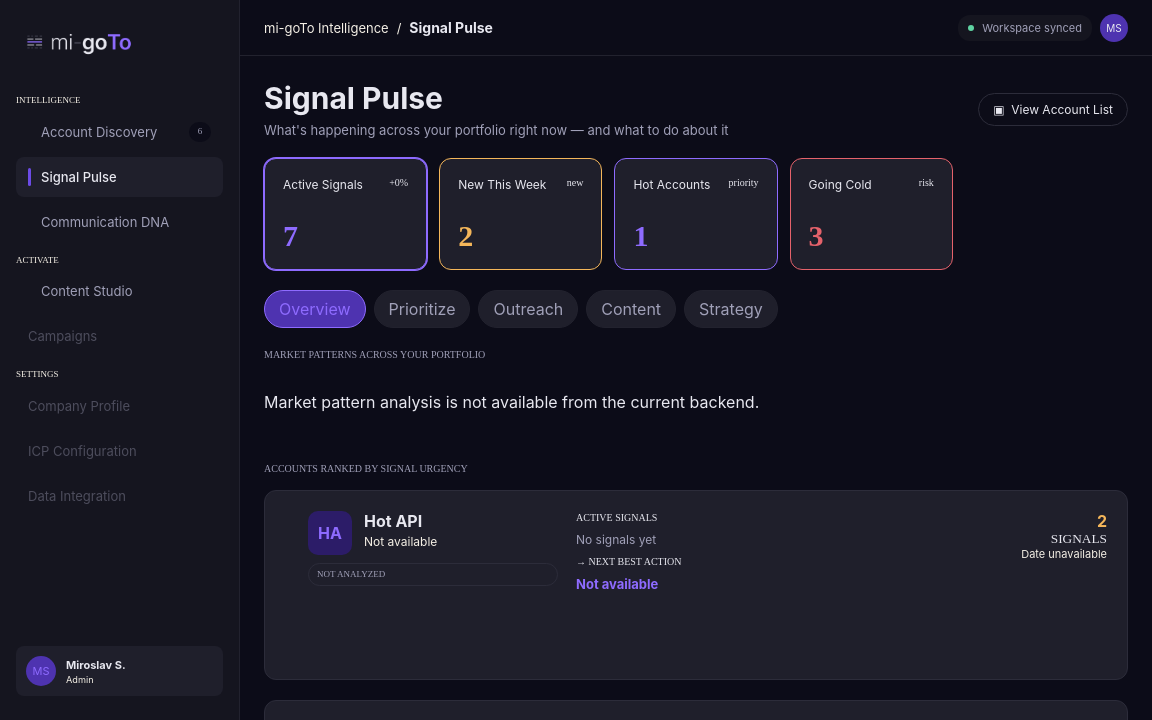
Scenario: Phase 6D API-mode UI regressions › uses backend Signal Pulse metrics and urgency filters without fixture patterns
The width and height of the screenshot is (1152, 720).
Check: the text "Market Patterns" is not shown
Click the button "Going Cold risk 3". click: (871, 214)
box: [790, 158, 953, 270]
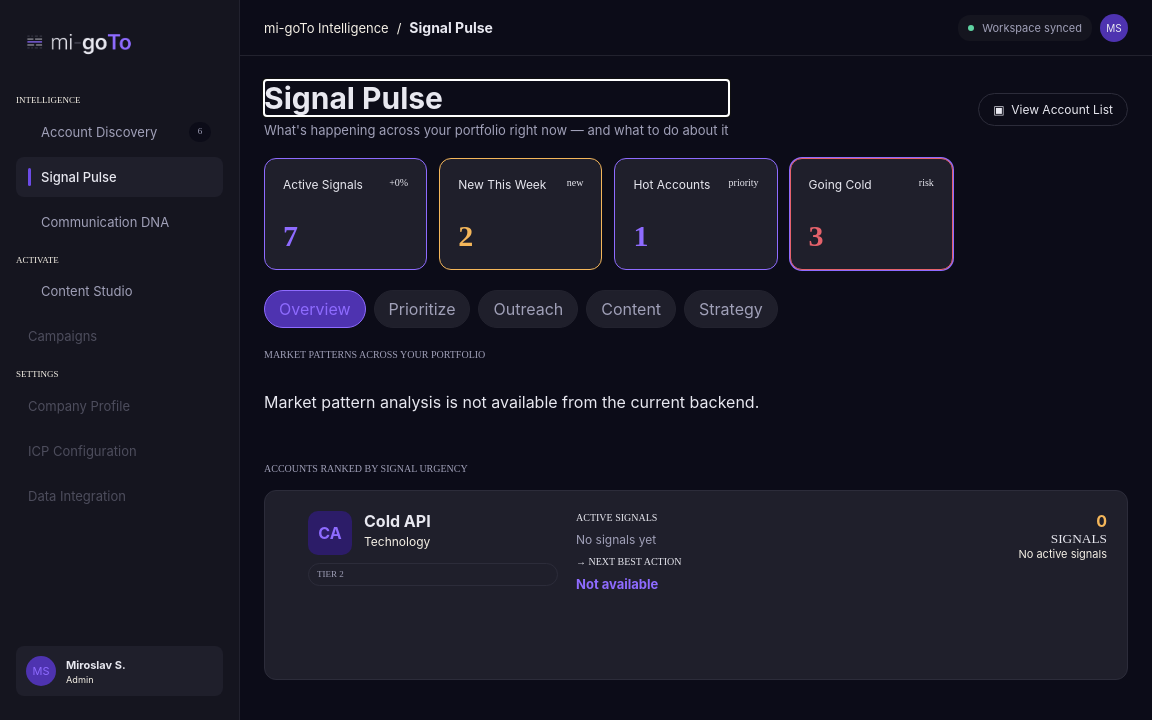
Check: the text "Cold API" is shown, box [364, 511, 431, 531]
Check: the text "Hot API" is gone
